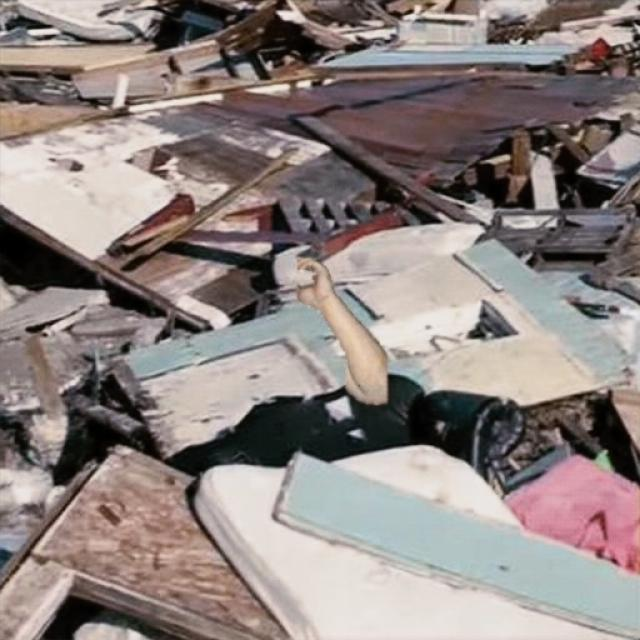Person in Rubble: (298, 256, 387, 404)
